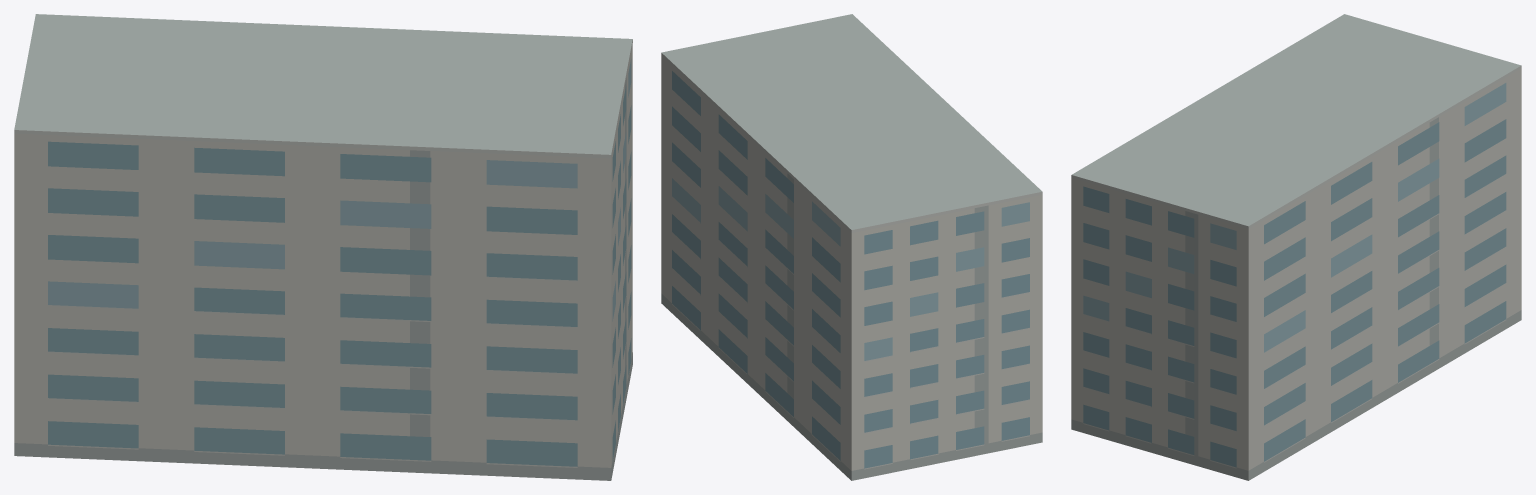
The model's file is residential-eae720b2-50ff-4702-9e7b-93bd021ed61f.glb.
3 views of the same model, side by side, from view 1: azimuth 30°, elevation 25°; view 2: azimuth 150°, elevation 25°; view 3: azimuth 270°, elevation 25° (orthographic). The views are drawn at different scales.
Visible parts, largest first — view 1: residential-eae720b2-50ff-4702-9e7b-93bd021ed61f.tmp; view 2: residential-eae720b2-50ff-4702-9e7b-93bd021ed61f.tmp; view 3: residential-eae720b2-50ff-4702-9e7b-93bd021ed61f.tmp.
Part boxes in pixels (x1=…): residential-eae720b2-50ff-4702-9e7b-93bd021ed61f.tmp: x1=14, y1=14, x2=632, y2=480; residential-eae720b2-50ff-4702-9e7b-93bd021ed61f.tmp: x1=661, y1=14, x2=1042, y2=480; residential-eae720b2-50ff-4702-9e7b-93bd021ed61f.tmp: x1=1071, y1=14, x2=1521, y2=480.
Bounding box in the file's own units: 38.19 × 21.35 × 34.22.
